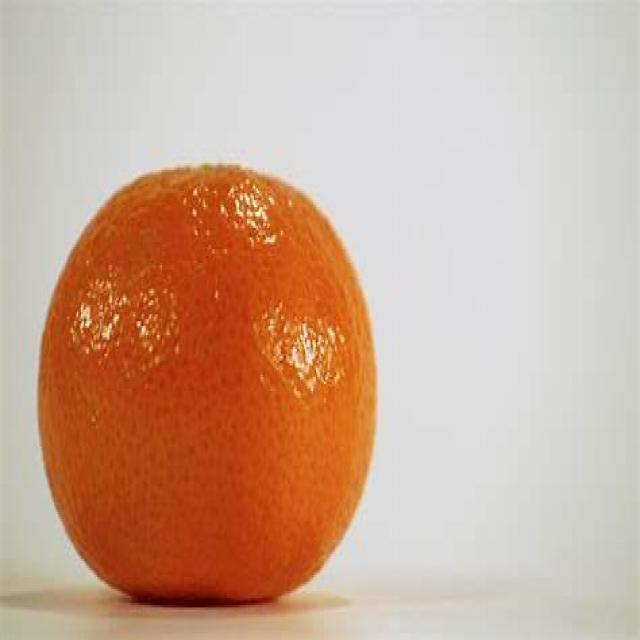Orange: (35, 162, 381, 605)
